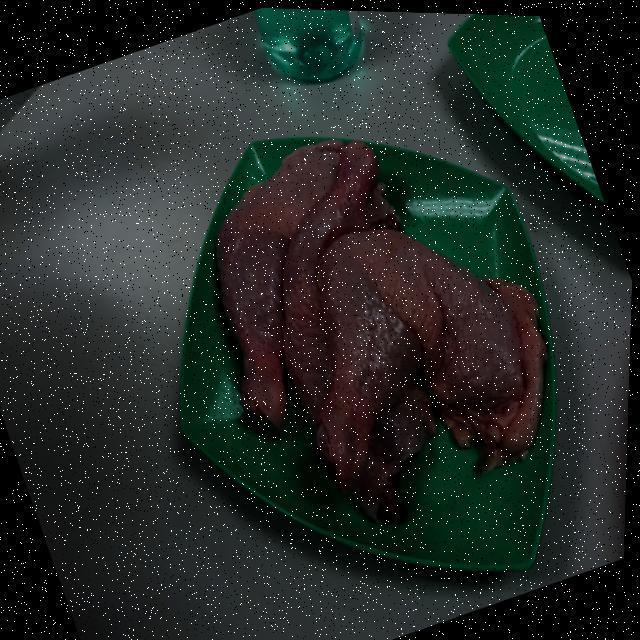quater: (318, 223, 544, 551), (218, 139, 368, 408)
